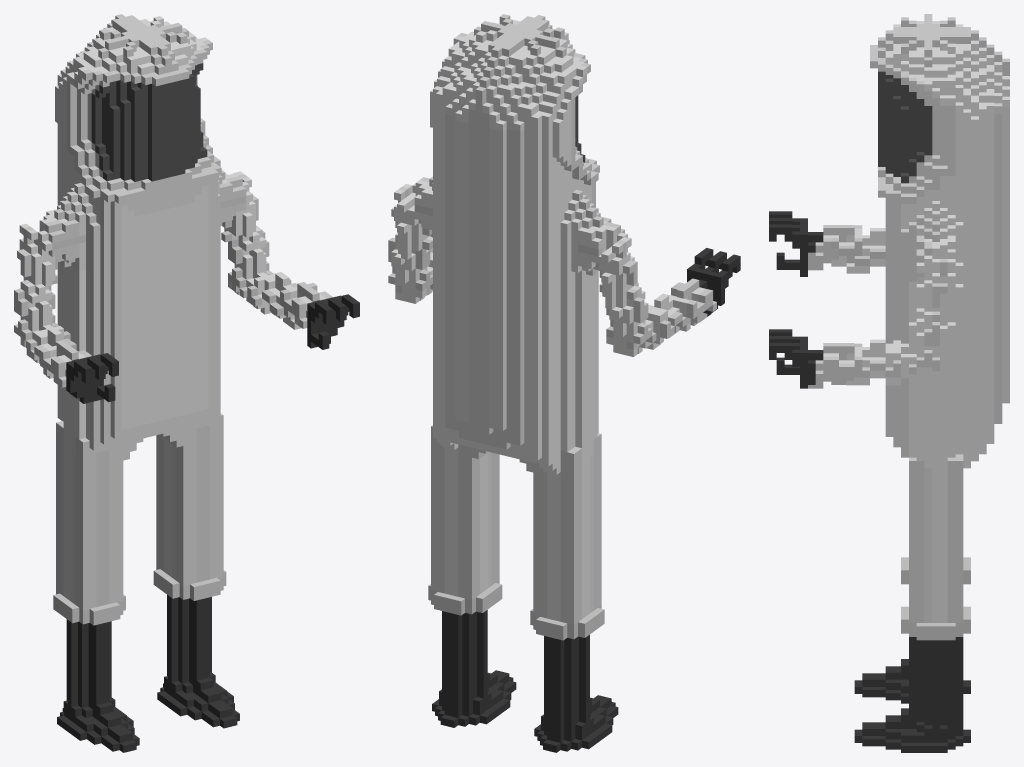
The model's file is Scientist in a costume.obj.
The picture shows the model from 3 angles, left to right: view 1: azimuth 30°, elevation 25°; view 2: azimuth 150°, elevation 25°; view 3: azimuth 270°, elevation 25°; orthographic projection.
Bounding box in the file's own units: 4.1 × 9.7 × 3.1.
1 material, 1 textured.
